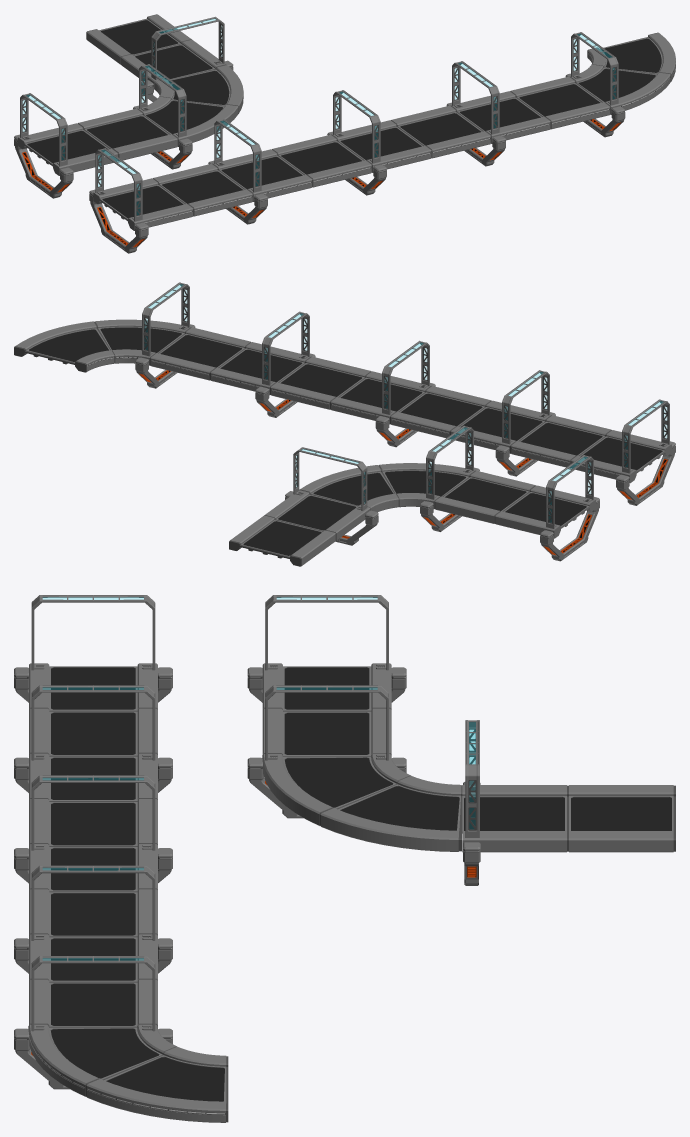
The model's file is road25.fbx.
The picture shows the model from 3 angles, top to bottom: view 1: azimuth 30°, elevation 25°; view 2: azimuth 150°, elevation 25°; view 3: azimuth 270°, elevation 25°; orthographic projection. The views are drawn at different scales.
Visible parts, largest first — view 1: Cube.010, Cube.009, Cube.011, Cube.007, Cube.008, Cube.012, Cube.002, Cube.003, Cube.004, Cube.001, Cube, Cube.006; view 2: Cube.010, Cube.009, Cube.007, Cube.011, Cube.008, Cube.012, Cube.002, Cube.004, Cube.003, Cube.001, Cube, Cube.006 (+1 smaller); view 3: Cube.010, Cube.011, Cube.007, Cube.009, Cube.004, Cube.003, Cube.012, Cube.002, Cube.008, Cube.001, Cube, Cube.006.
Part boxes in pixels (x1,y1,x2,y2): Cube.010: (93,76,610,230); Cube.009: (95,32,618,221); Cube.011: (570,32,675,114); Cube.007: (86,14,226,89); Cube.008: (89,73,625,253); Cube.012: (78,108,178,161); Cube.002: (18,123,118,175); Cube.003: (137,96,238,146); Cube.004: (155,64,243,113); Cube.001: (20,64,186,166); Cube: (14,105,192,198); Cube.006: (151,16,224,80); Cube.010: (149,327,671,483); Cube.009: (142,282,669,473); Cube.007: (229,490,370,566); Cube.011: (14,319,191,372); Cube.008: (135,324,675,505); Cube.012: (434,470,535,523); Cube.002: (494,485,595,538); Cube.004: (299,465,398,512); Cube.003: (378,463,475,509); Cube.001: (426,425,593,528); Cube: (420,467,599,561); Cube.006: (293,447,367,510); Cube.010: (29,663,157,1028); Cube.011: (28,1024,228,1122); Cube.007: (462,785,675,852); Cube.009: (31,595,155,1031); Cube.004: (320,775,462,851); Cube.003: (262,753,410,825); Cube.012: (262,708,391,756); Cube.002: (262,663,391,711); Cube.008: (14,667,172,1089); Cube.001: (265,595,388,760); Cube: (247,667,406,818); Cube.006: (465,720,479,837).
Bounding box in the file's own units: 20625 × 2748 × 12929.
